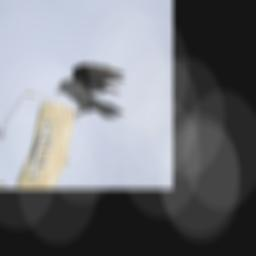Crow: (50, 48, 137, 137)
